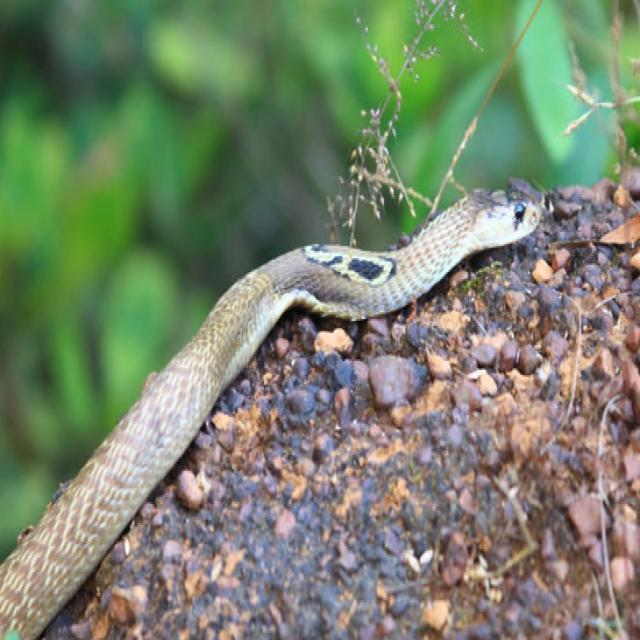Snake: (0, 174, 547, 638)
